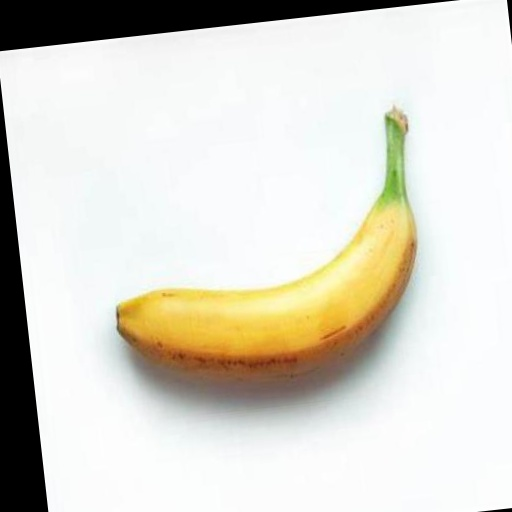fruit: (117, 108, 416, 378)
